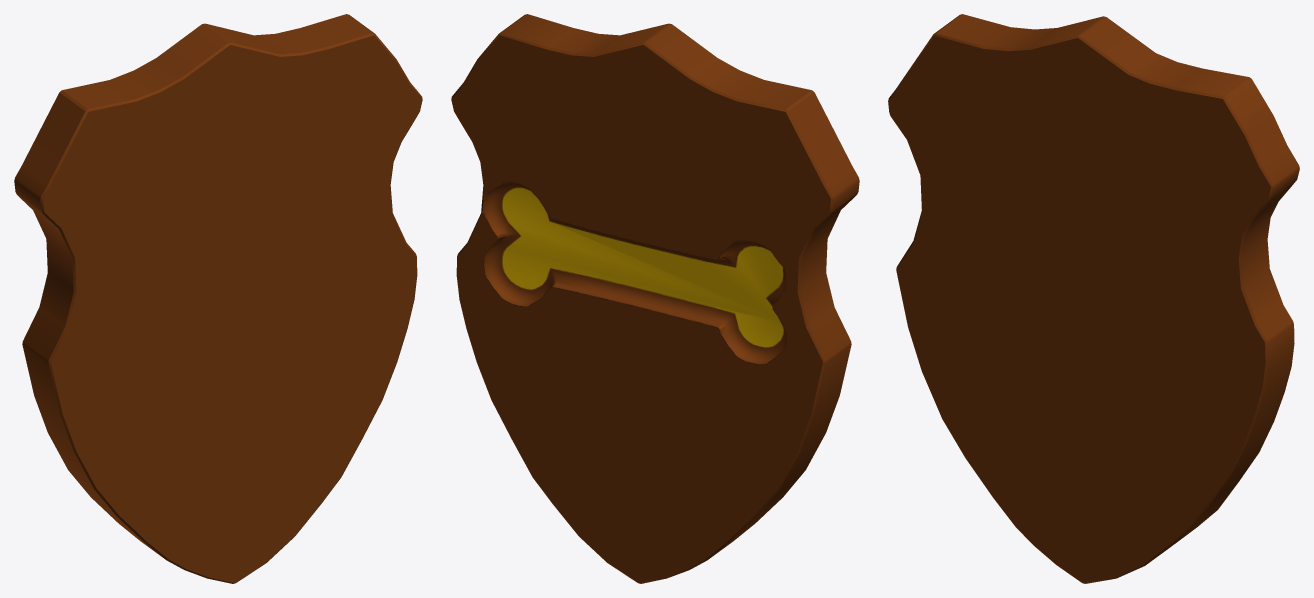
The model's file is Trophy.fbx.
3 renders of one model, left to right at view 1: azimuth 30°, elevation 25°; view 2: azimuth 150°, elevation 25°; view 3: azimuth 330°, elevation 25°, orthographic.
Visible parts, largest first — view 1: Plane; view 2: Plane; view 3: Plane.
Part boxes in pixels (x1=…): Plane: x1=14, y1=14, x2=422, y2=583; Plane: x1=451, y1=14, x2=859, y2=583; Plane: x1=888, y1=14, x2=1299, y2=583.
Bounding box in the file's own units: 343 × 465 × 43.48.
